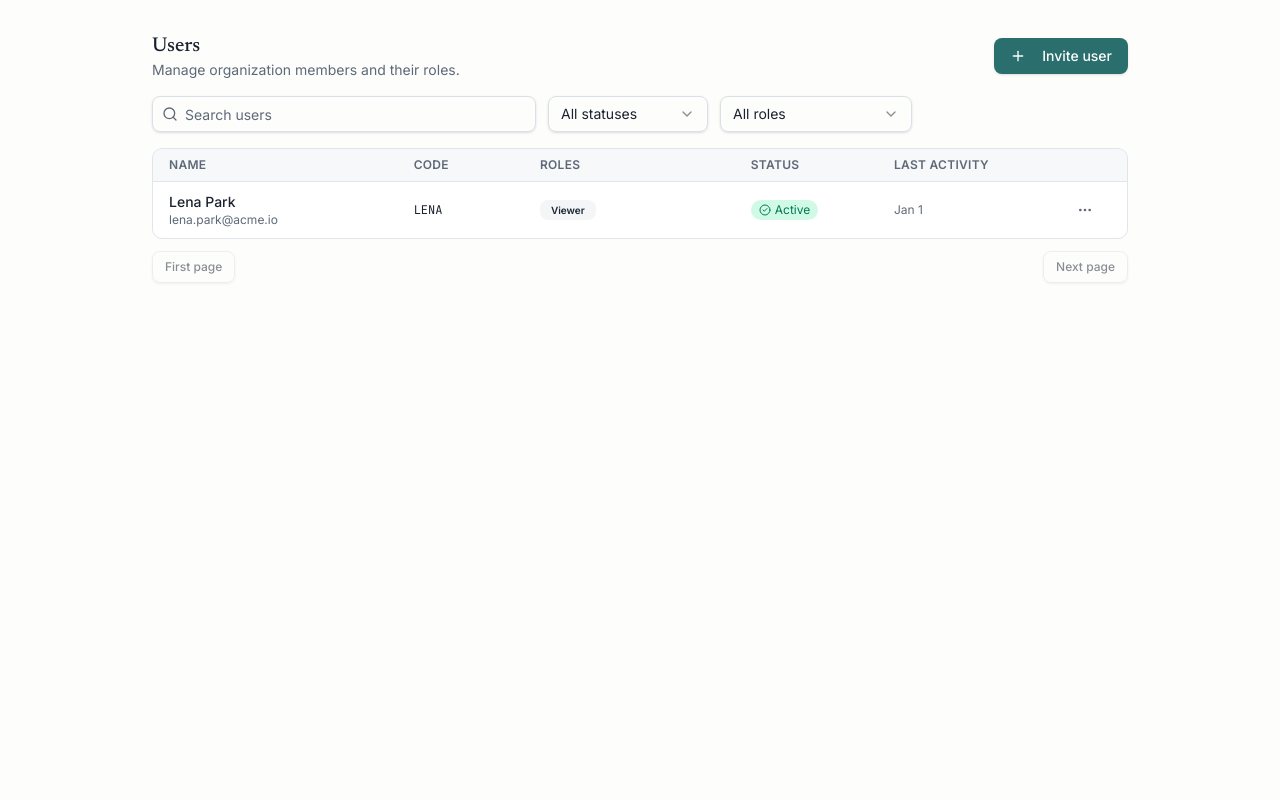
Test: AdminUsers › renders a 403 message and keeps the user signed in
Expected: the text "Lena Park" is shown, [169,193,236,210]
What coordinates should you click on to do the following:
click the button named "Actions"
I would click on:
 (1085, 210)
Its box is [1071,196,1099,224].
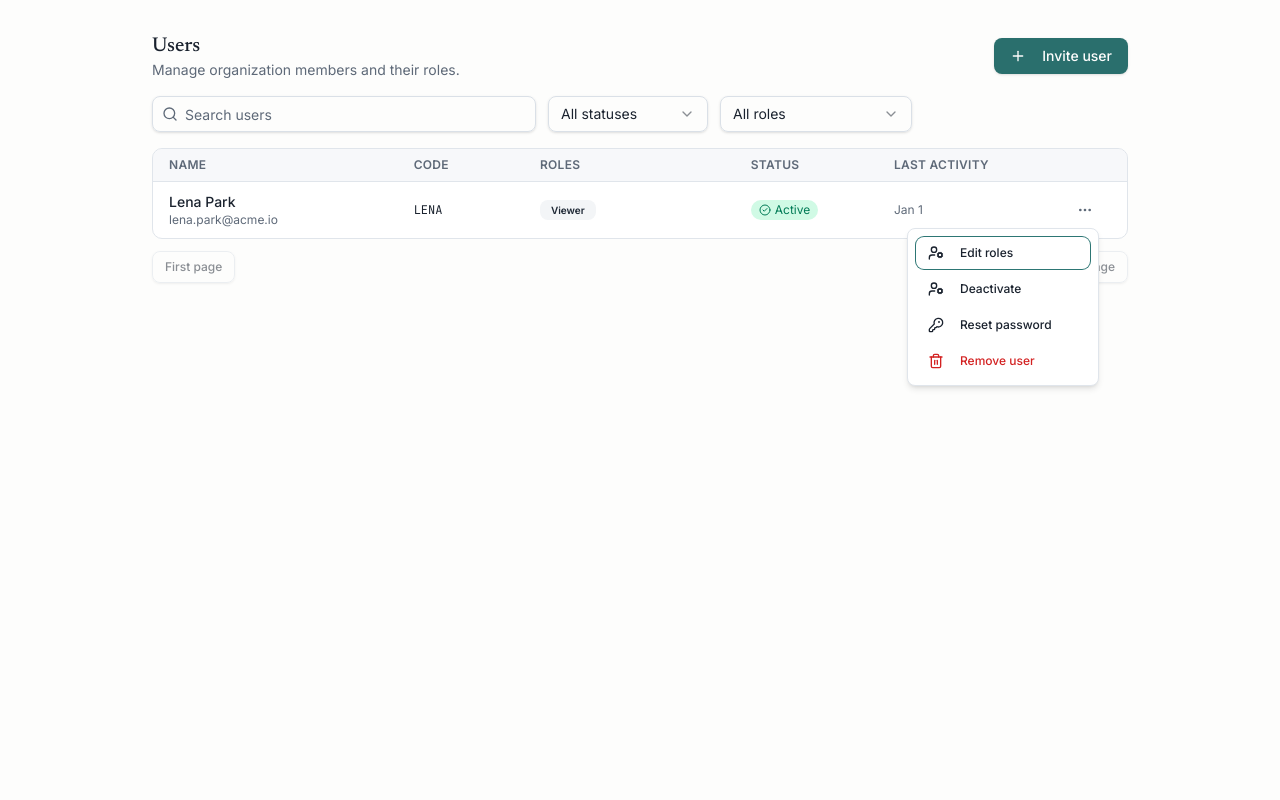
What coordinates should you click on to do the following:
click the button "Deactivate"
I would click on:
 (1003, 289)
Its box is [916,273,1090,305].
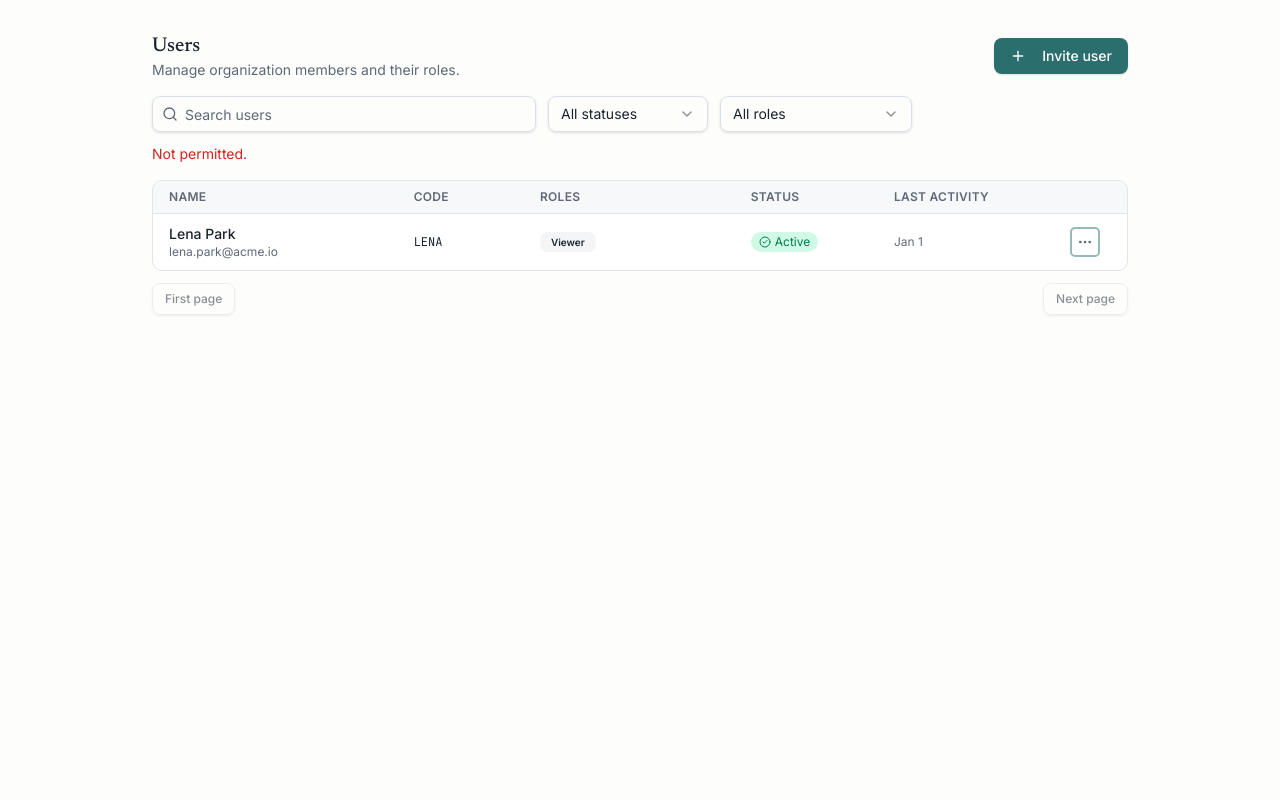
Expected: the text "Lena Park" is shown, [169,225,236,242]
Expected: the text "Not permitted." is shown, [152,145,247,162]
